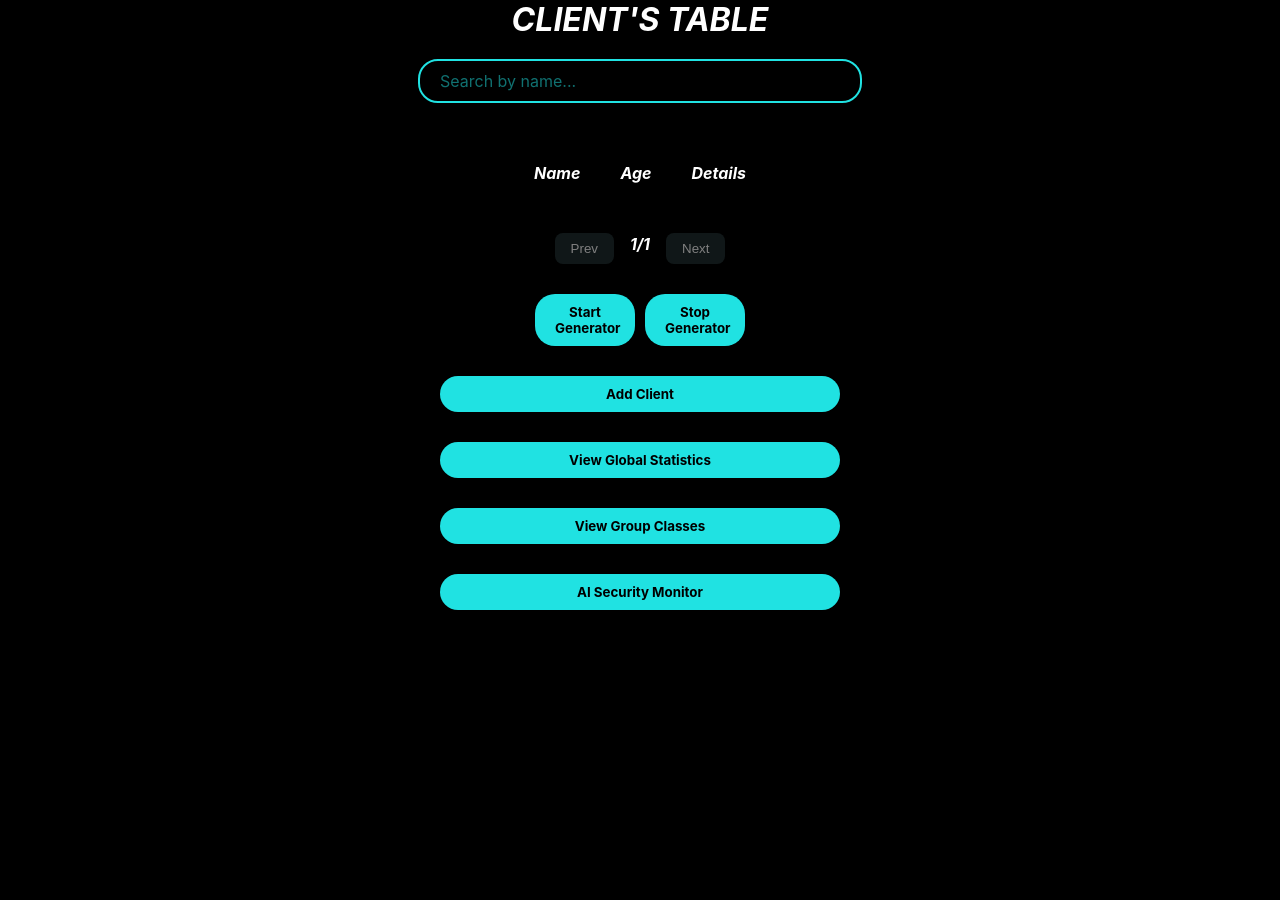
DashboardPage › closes dashboard modal when close is clicked
The width and height of the screenshot is (1280, 900).
Click the button "View Global Statistics".
click(640, 460)  # box [440,442,840,478]
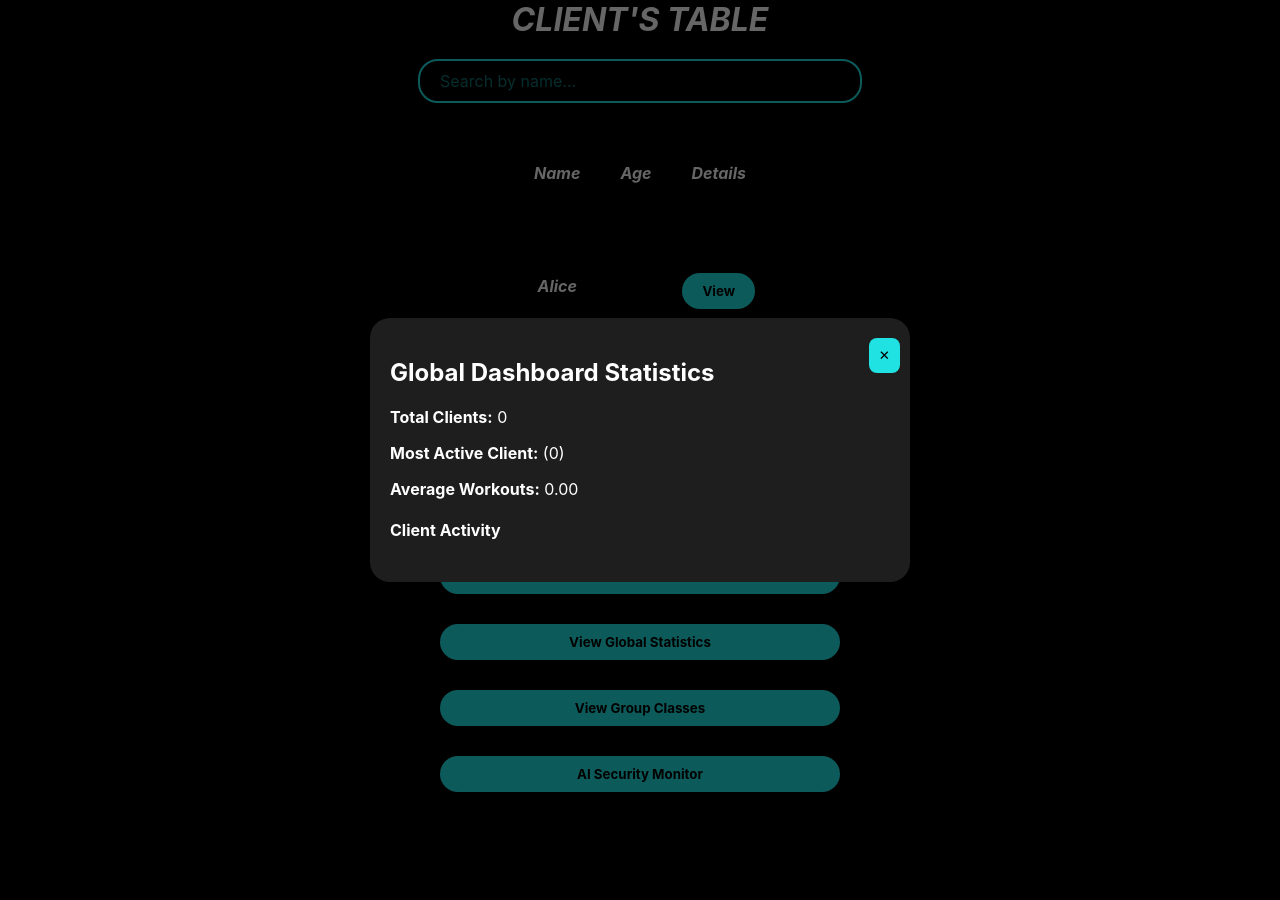
Now the button "✕" is shown
Click the button "✕".
click(884, 356)  # box [869,338,900,373]
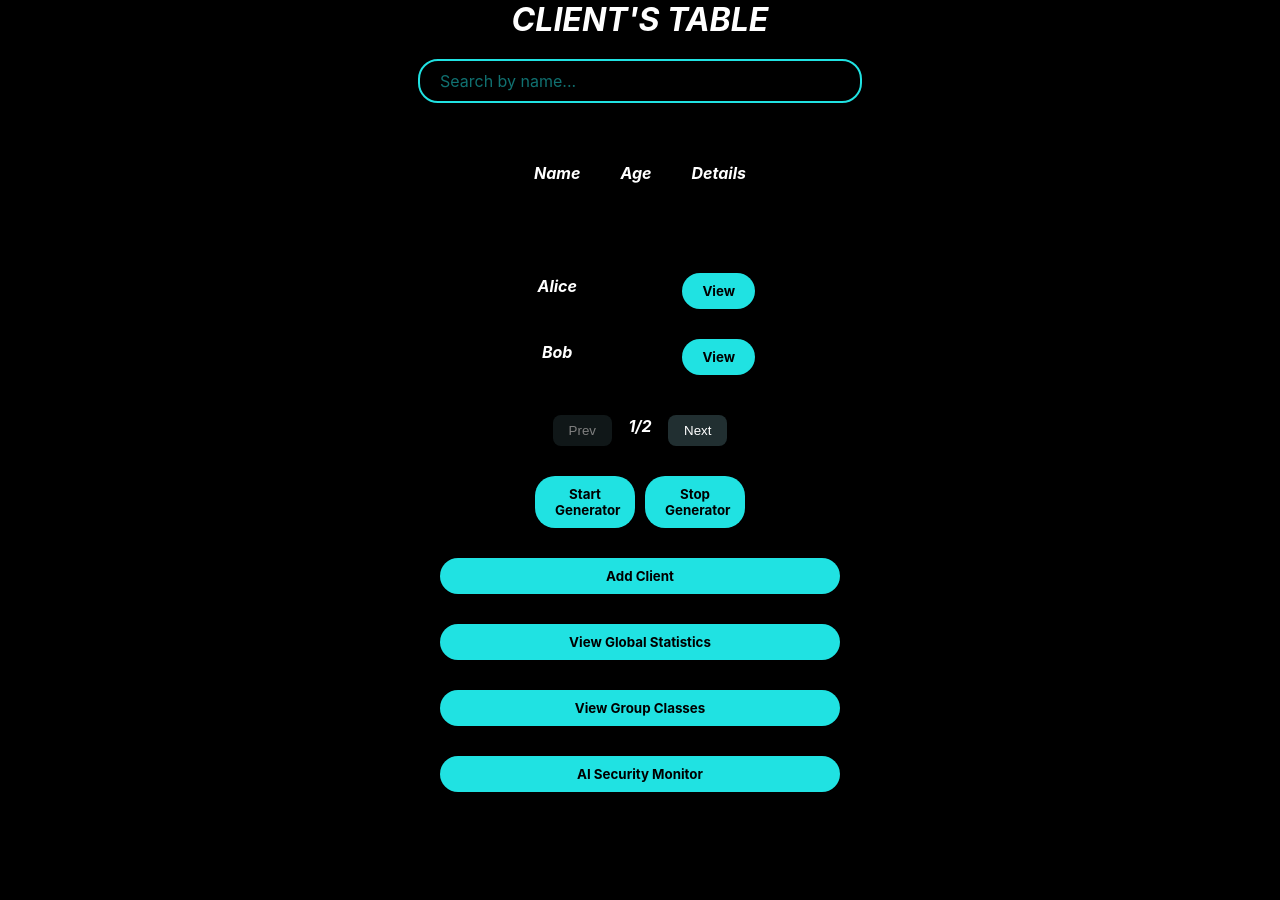
Now the heading "Global Dashboard Statistics" is gone
